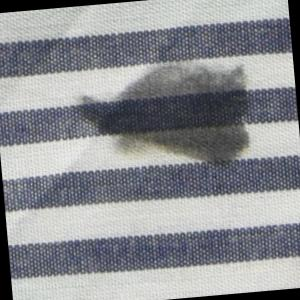Stain: (74, 54, 263, 185)
Wrinkle: (1, 7, 233, 232), (1, 5, 105, 94)
